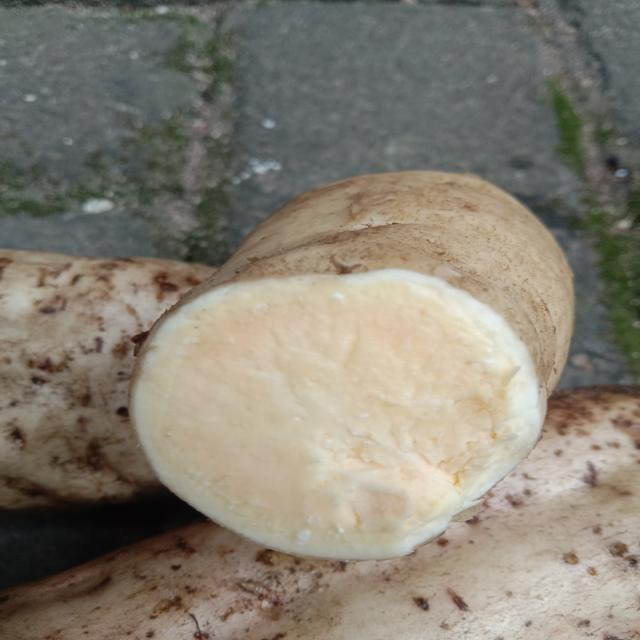Healthy Sweet Potato: (132, 269, 543, 560)
